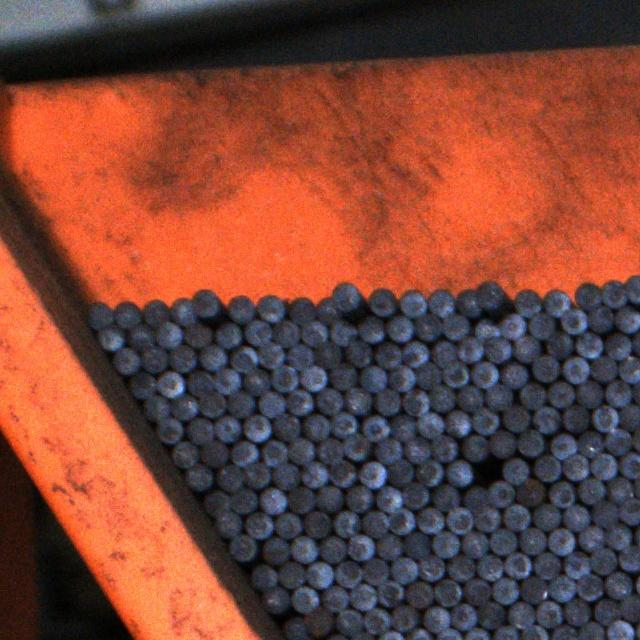tool: (543, 288, 572, 318), (333, 280, 361, 311), (514, 288, 542, 318), (304, 606, 332, 636), (227, 295, 255, 324), (399, 287, 427, 316), (257, 295, 286, 323), (368, 286, 396, 315), (288, 296, 316, 325), (143, 299, 171, 328), (517, 479, 546, 507), (428, 286, 455, 316), (262, 586, 290, 614), (575, 379, 603, 407), (359, 460, 387, 488), (343, 388, 371, 416), (270, 363, 298, 391), (186, 416, 214, 444), (445, 458, 473, 486), (200, 439, 228, 467), (390, 556, 418, 584), (385, 314, 413, 342), (574, 332, 602, 360), (192, 289, 220, 317), (514, 336, 542, 364), (560, 355, 588, 383), (604, 333, 632, 361), (560, 404, 588, 432), (431, 483, 460, 510), (171, 296, 197, 326), (358, 316, 385, 344), (229, 533, 257, 560), (242, 413, 269, 441), (301, 460, 328, 488), (603, 380, 631, 407), (214, 414, 241, 442), (402, 481, 429, 509), (485, 384, 513, 411), (271, 463, 299, 490), (534, 502, 562, 529), (575, 280, 602, 308), (454, 289, 481, 317), (359, 364, 386, 392), (502, 504, 530, 531), (603, 571, 631, 598), (272, 412, 299, 440), (115, 301, 142, 329), (489, 429, 516, 457), (519, 576, 546, 604), (415, 507, 443, 534), (168, 344, 196, 371), (518, 526, 546, 553), (431, 435, 458, 463), (470, 360, 498, 387), (501, 361, 528, 389), (374, 340, 401, 368), (472, 406, 499, 434), (590, 500, 617, 528), (534, 453, 562, 480), (562, 552, 589, 580), (461, 578, 489, 605), (547, 380, 574, 408), (502, 457, 530, 484), (518, 382, 545, 410), (360, 415, 388, 442), (416, 411, 444, 438), (576, 478, 603, 506), (460, 435, 488, 462), (544, 331, 572, 358), (305, 561, 332, 588), (302, 512, 329, 539), (434, 580, 461, 607), (432, 530, 459, 557), (504, 552, 531, 579), (273, 319, 300, 346), (348, 583, 375, 610), (170, 394, 197, 421), (215, 464, 242, 491), (259, 486, 286, 513), (319, 535, 346, 562), (301, 414, 328, 441), (414, 312, 441, 339), (472, 505, 499, 532), (508, 601, 535, 628), (547, 527, 574, 554), (560, 308, 587, 335), (489, 528, 516, 555), (589, 356, 616, 383), (487, 481, 514, 508), (517, 428, 544, 455), (532, 354, 559, 381), (548, 481, 575, 508), (317, 485, 344, 512), (490, 577, 517, 604), (590, 404, 617, 431), (242, 368, 269, 395), (533, 406, 560, 433), (318, 435, 345, 462), (360, 510, 387, 537), (501, 406, 528, 433), (442, 361, 469, 388), (404, 532, 431, 559), (243, 461, 270, 488), (561, 452, 588, 479), (405, 436, 432, 463), (316, 341, 343, 368), (459, 530, 486, 557), (605, 522, 632, 549), (328, 363, 355, 390), (251, 562, 278, 589), (375, 437, 402, 464), (401, 388, 428, 415), (377, 581, 404, 608), (344, 339, 371, 366), (229, 442, 257, 468), (88, 302, 114, 330), (288, 438, 314, 466), (199, 345, 227, 371), (614, 304, 640, 332), (288, 486, 314, 514), (528, 312, 554, 340), (156, 372, 184, 398), (291, 534, 317, 562), (548, 574, 574, 602), (446, 506, 472, 534), (601, 278, 627, 306), (361, 556, 387, 584), (406, 580, 432, 608), (536, 600, 562, 628), (329, 460, 355, 488), (478, 600, 504, 628), (262, 536, 288, 564), (333, 511, 359, 539), (128, 322, 154, 350), (446, 555, 474, 581), (588, 305, 614, 333), (374, 486, 402, 512), (548, 432, 576, 458), (430, 383, 456, 411), (230, 344, 256, 372), (184, 369, 212, 395), (606, 476, 632, 504), (344, 433, 370, 461), (431, 340, 457, 368), (414, 362, 440, 390), (478, 280, 504, 308), (156, 416, 183, 442), (334, 561, 361, 587), (286, 389, 313, 415), (244, 320, 271, 346), (171, 441, 197, 468), (186, 463, 213, 489), (216, 512, 243, 538), (213, 367, 240, 393), (576, 574, 603, 600), (534, 553, 560, 580), (292, 586, 318, 613), (443, 313, 469, 340), (198, 392, 225, 418), (273, 513, 300, 539), (589, 548, 615, 575), (388, 363, 414, 390), (444, 409, 470, 436), (227, 392, 254, 418), (589, 452, 616, 478), (392, 604, 418, 631), (345, 486, 372, 512), (423, 605, 450, 631), (391, 413, 417, 440), (417, 554, 443, 581), (317, 389, 343, 416), (400, 340, 427, 366), (335, 608, 362, 634), (562, 503, 588, 530), (603, 428, 630, 454), (450, 602, 476, 629), (128, 372, 154, 399), (203, 488, 229, 515), (576, 430, 602, 457), (215, 323, 242, 349), (320, 586, 347, 612), (389, 508, 415, 535), (483, 336, 510, 362), (591, 598, 617, 625), (259, 341, 285, 368), (262, 441, 288, 468), (500, 312, 527, 338), (328, 320, 355, 346), (562, 598, 588, 625), (387, 457, 412, 485), (316, 296, 341, 324), (416, 460, 442, 486), (112, 348, 138, 374), (144, 394, 170, 420), (302, 320, 328, 346), (476, 554, 502, 580), (301, 364, 327, 390), (140, 346, 166, 372), (288, 344, 314, 370), (156, 322, 182, 348), (277, 561, 303, 587), (247, 512, 273, 538), (98, 323, 124, 349), (259, 392, 285, 418), (364, 607, 390, 633), (456, 385, 482, 411), (578, 524, 604, 550), (376, 533, 402, 559), (456, 336, 482, 362), (329, 412, 355, 438), (348, 533, 373, 560), (182, 322, 210, 346), (230, 487, 256, 512), (374, 390, 399, 416), (464, 486, 488, 511), (473, 321, 499, 344), (619, 356, 640, 384), (607, 619, 635, 640), (618, 545, 640, 571), (618, 451, 640, 477), (618, 405, 640, 431), (619, 497, 640, 524), (281, 617, 305, 640), (620, 593, 640, 620), (578, 621, 605, 640), (626, 272, 640, 303), (521, 625, 548, 640), (550, 625, 576, 640), (494, 625, 520, 640), (436, 627, 463, 640), (406, 627, 433, 640), (463, 627, 489, 640), (378, 630, 404, 640), (631, 328, 640, 355), (350, 631, 375, 640), (631, 426, 640, 451), (632, 380, 640, 407), (633, 476, 640, 502), (634, 569, 640, 598), (324, 634, 351, 640), (634, 619, 640, 640)
